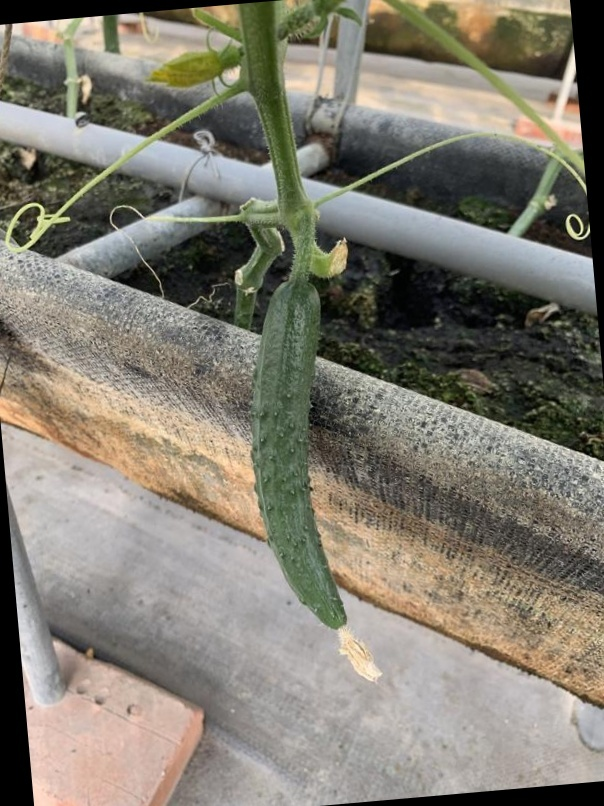growth: (232, 275, 359, 655)
mature: (243, 284, 357, 654)
